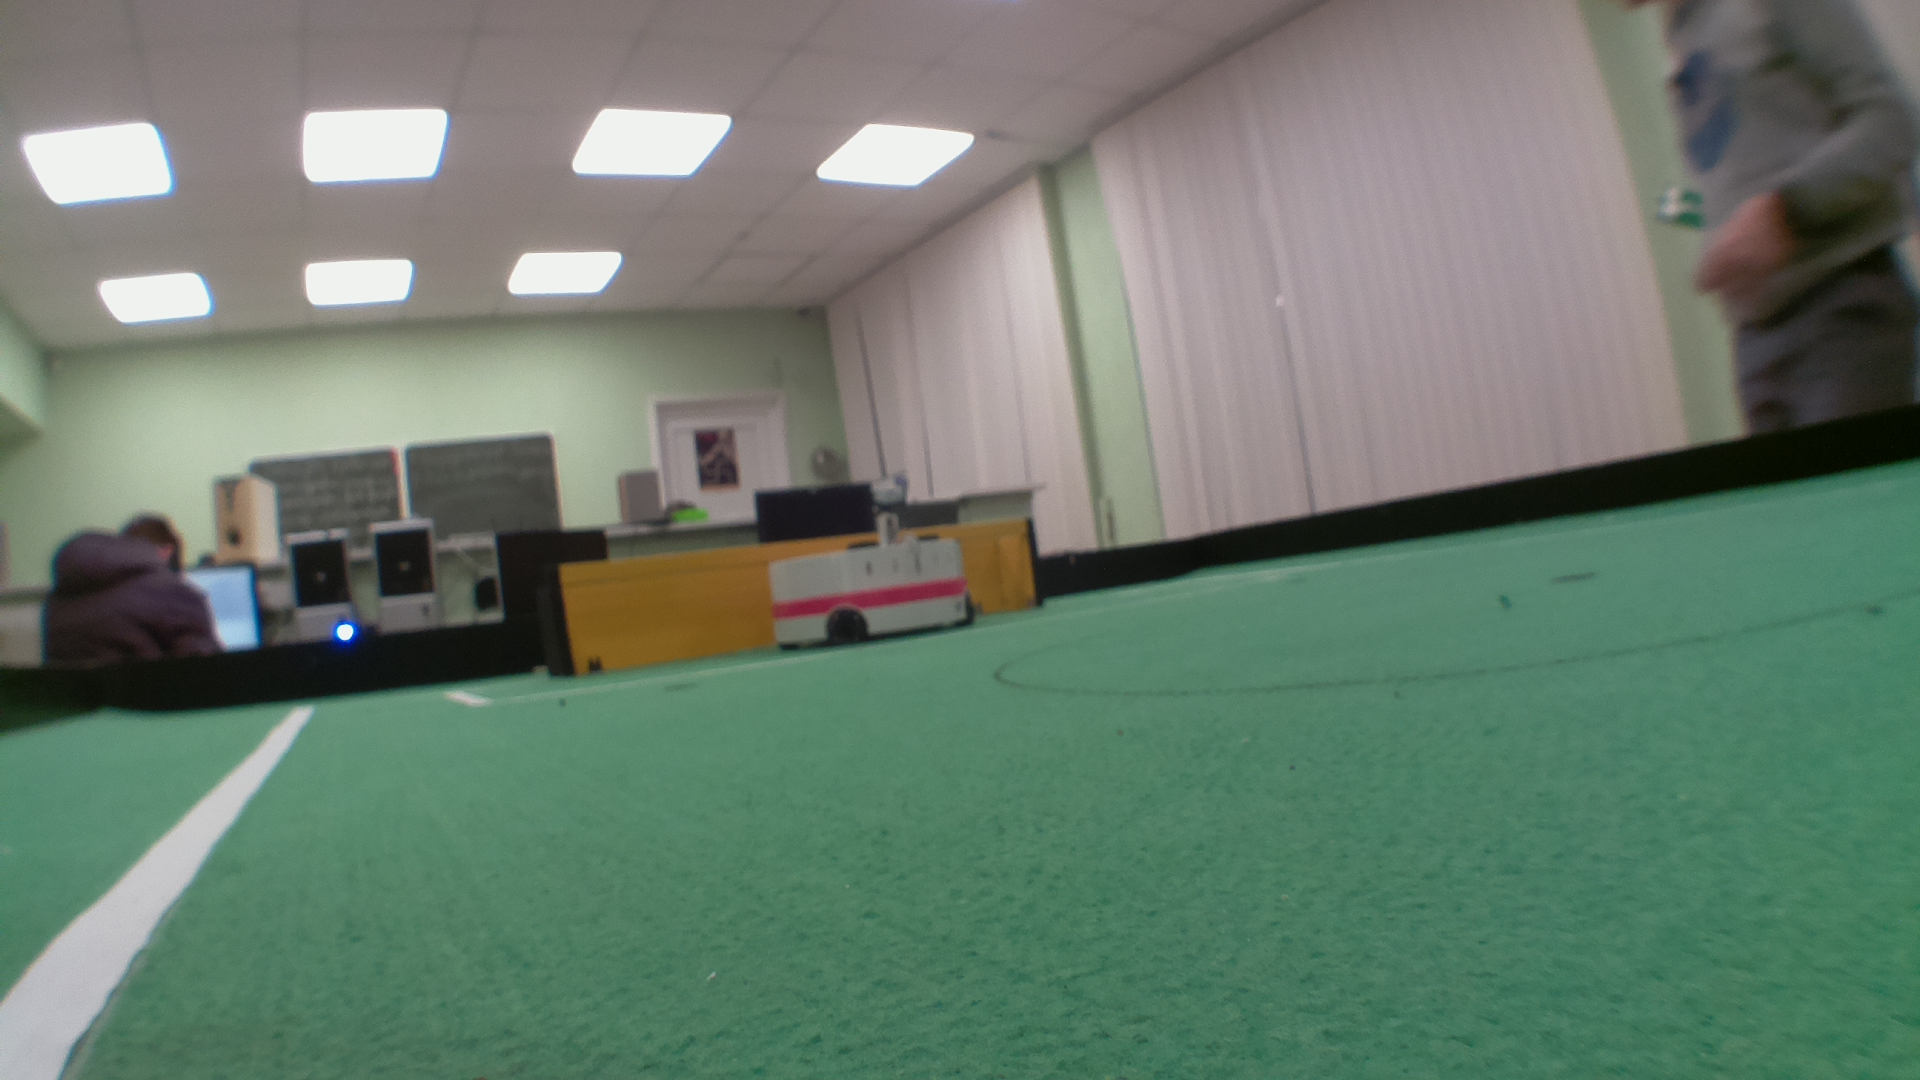YellowGoal: (560, 521, 1044, 659)
